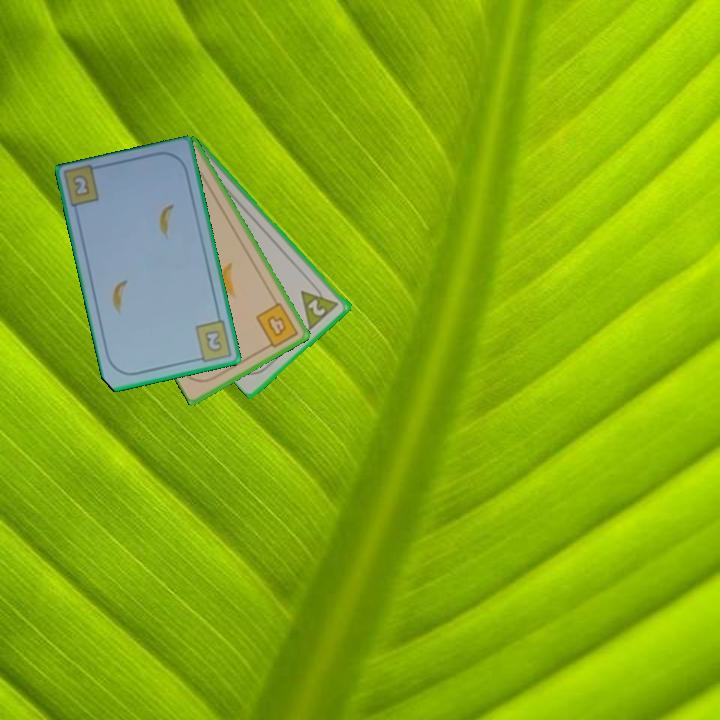2b: (191, 317, 234, 364), (69, 171, 93, 200)
2p: (297, 278, 342, 332)
4b: (252, 299, 301, 352)
